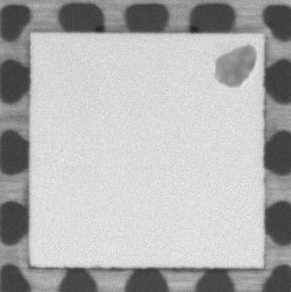DIE_INK: (208, 38, 260, 92)
